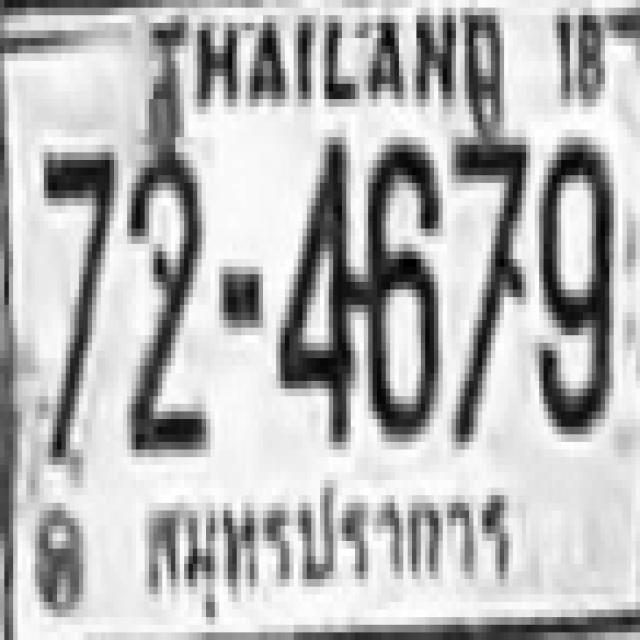2: (124, 148, 202, 449)
4: (274, 133, 357, 438)
6: (365, 141, 442, 437)
7: (447, 126, 526, 438), (39, 145, 114, 457)
9: (537, 138, 612, 434)
SamutPrakan: (126, 464, 522, 619)
